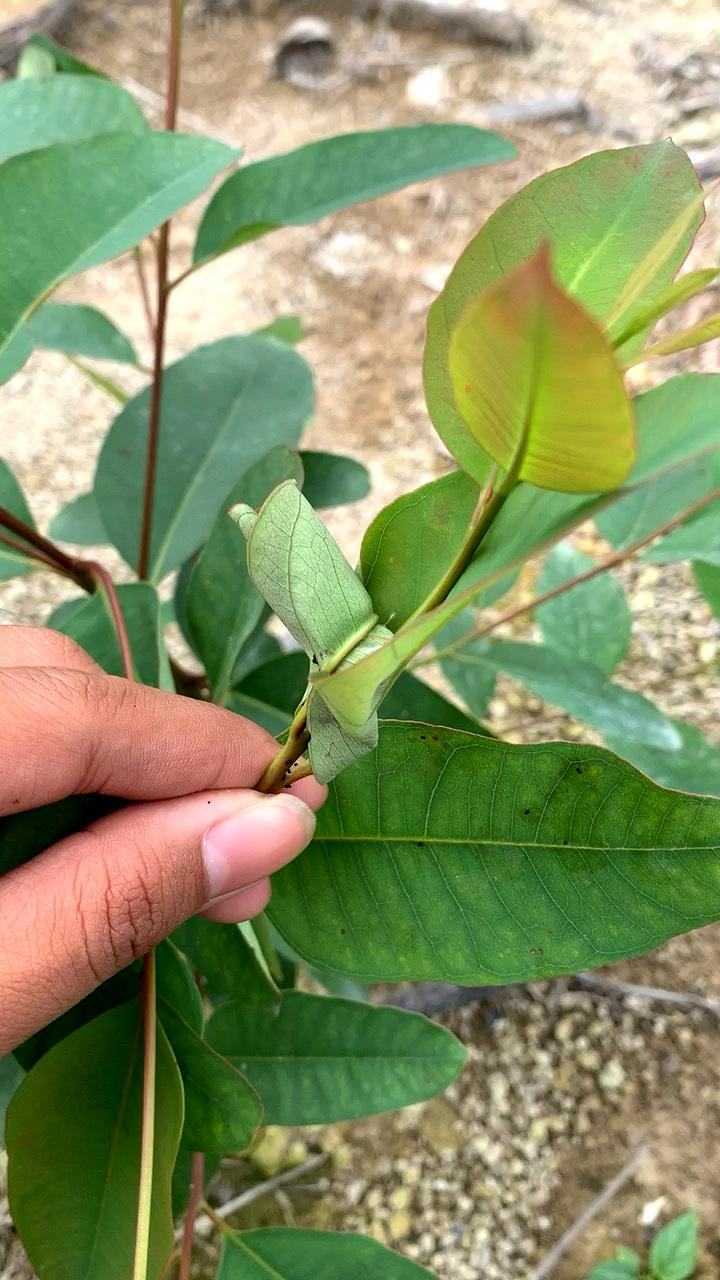Leaf Roller - Leaf: (198, 453, 435, 754)
